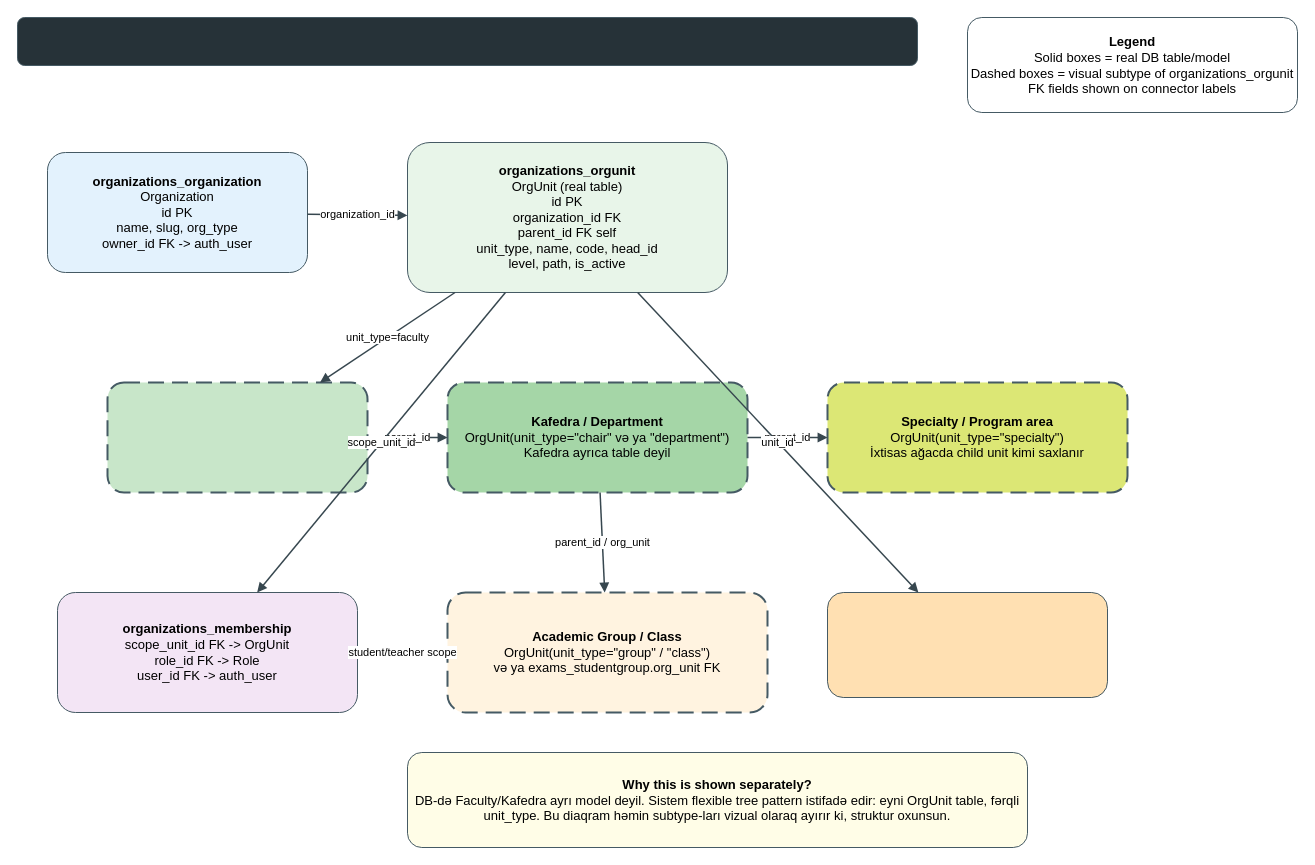
The diagram is 1315 pixels wide and 865 high, and some of its shapes have lost their labels. The shapes that lost their labels are listed below. From the top down, each one's centre as x and y in pixels, then its label:
[467,41]: EMSArena Organization Structure: Faculty / Kafedra are OrgUnit subtypes
[237,437]: Faculty OrgUnit(unit_type="faculty") Fakültə ayrıca table deyil
[967,645]: courses_course unit_id FK -> OrgUnit period_id FK -> AcademicPeriod
